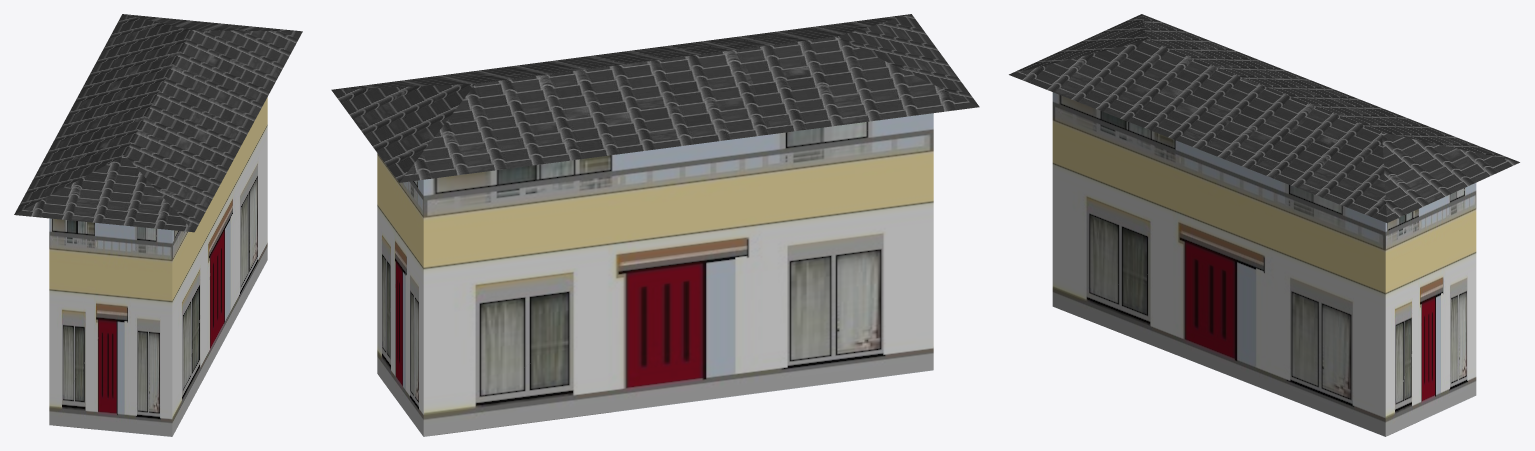
3 renders of one model, left to right at view 1: azimuth 30°, elevation 25°; view 2: azimuth 150°, elevation 25°; view 3: azimuth 270°, elevation 25°, orthographic. The views are drawn at different scales.
Parts seen in each view (by area): view 1: CityEngineMaterial_15_m, CityEngineMaterial_16_m; view 2: CityEngineMaterial_15_m, CityEngineMaterial_16_m; view 3: CityEngineMaterial_15_m, CityEngineMaterial_16_m.
Boxes of the visible parts, x1,y1,x2,y2 form: CityEngineMaterial_15_m: (49, 97, 267, 436); CityEngineMaterial_16_m: (14, 14, 302, 232); CityEngineMaterial_15_m: (377, 113, 933, 436); CityEngineMaterial_16_m: (331, 14, 979, 182); CityEngineMaterial_15_m: (1052, 92, 1476, 436); CityEngineMaterial_16_m: (1009, 14, 1519, 222).
Size of the model in its own units: 14.86 by 8.77 by 15.38.
